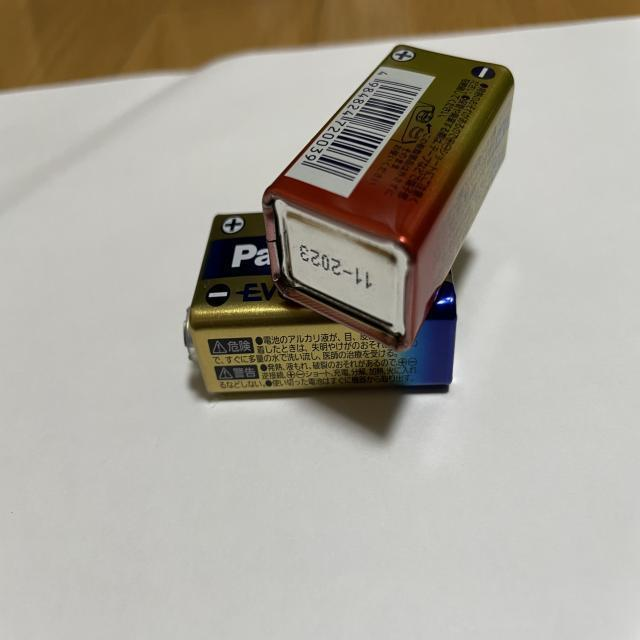9V: (263, 42, 514, 347), (182, 212, 458, 392)
